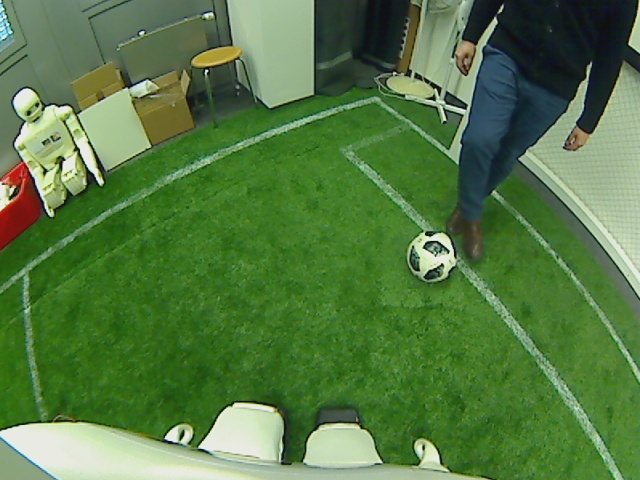ball: (406, 228, 456, 281)
